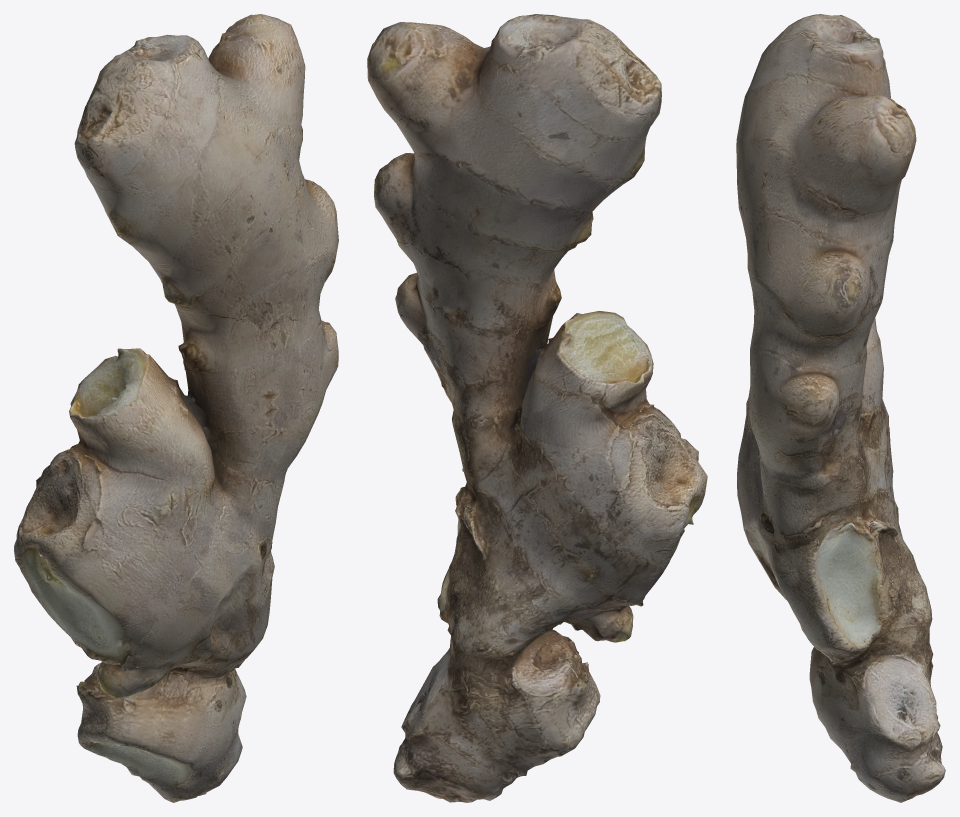
The model's file is food_ginger_01.glb.
3 renders of one model, left to right at view 1: azimuth 30°, elevation 25°; view 2: azimuth 150°, elevation 25°; view 3: azimuth 270°, elevation 25°, orthographic. The views are drawn at different scales.
Parts seen in each view (by area): view 1: food_ginger_01; view 2: food_ginger_01; view 3: food_ginger_01.
Part boxes in pixels (x1,y1,x2,y2): food_ginger_01: [14, 14, 338, 802]; food_ginger_01: [367, 14, 707, 802]; food_ginger_01: [736, 14, 945, 802].
Size of the model in its own units: 0.2399 by 0.5746 by 0.1474.
Materials: 1 (1 with a texture image).
